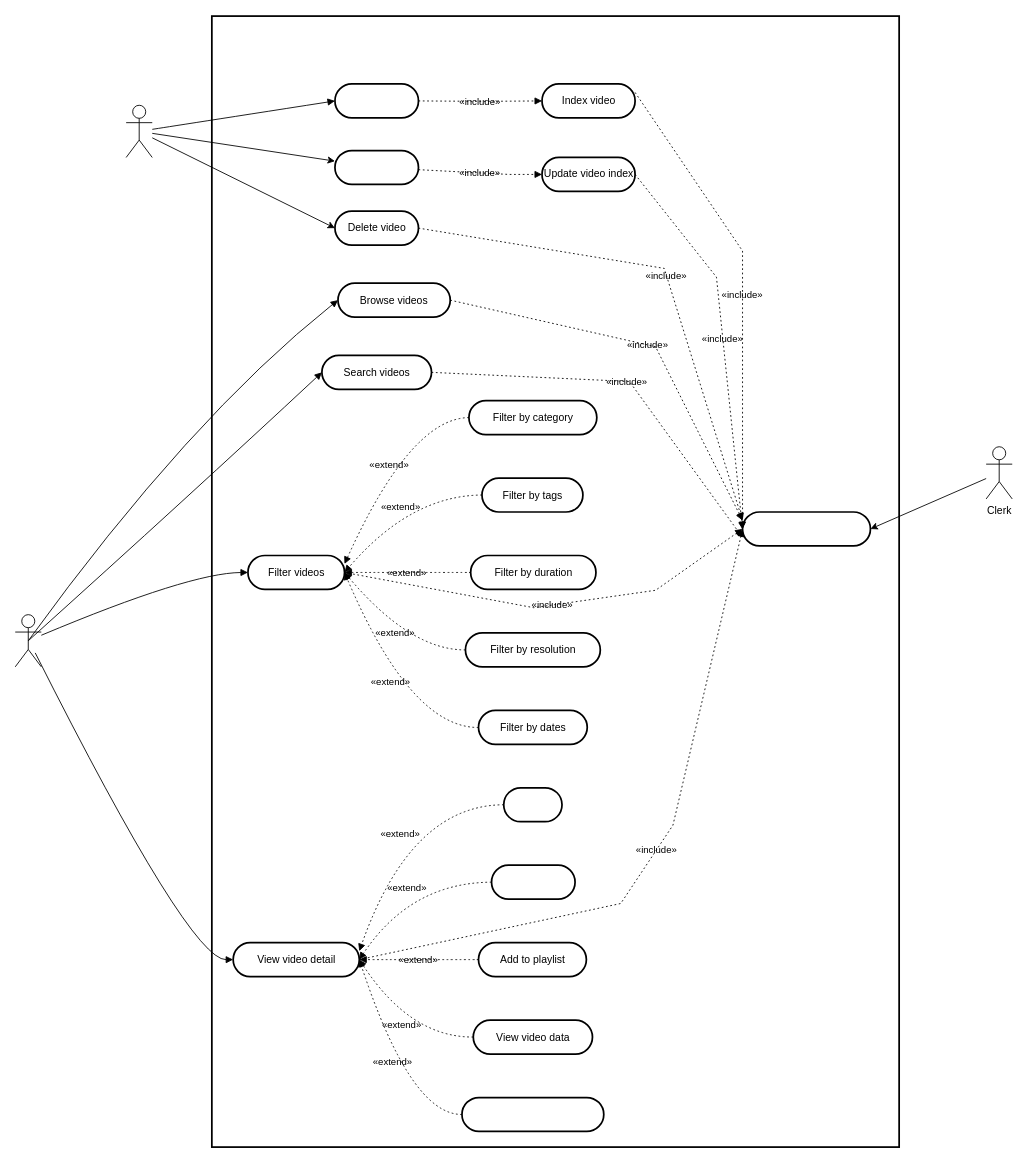
Some shapes in this 1027 by 1162 pixel diagram are drawn without their labels. The shapes that lost their labels are listed below. From the top down, each one's centre as x and y in pixels, then its label:
At (x=376, y=100): "Add video".
At (x=138, y=130): "Admin".
At (x=376, y=167): "Update video".
At (x=806, y=528): "Authenticate".
At (x=27, y=640): "User".
At (x=532, y=804): "Share".
At (x=533, y=882): "Download".
At (x=532, y=1114): "View related videos".
